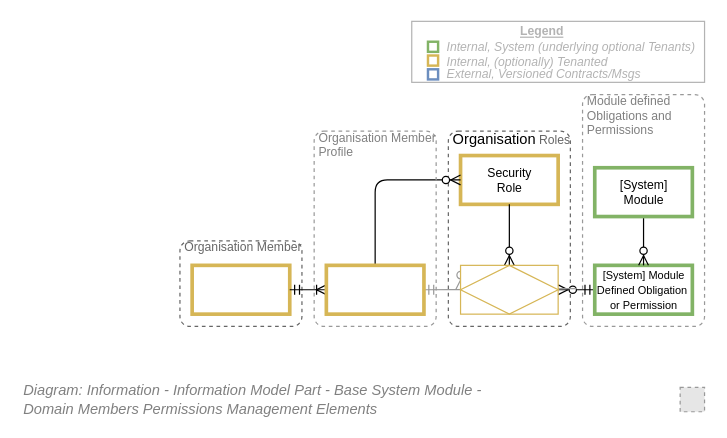
This 727x438 diagram has some shape labels left out. Grey dashed boxes stand in for pictures. The shapes that lost their labels are listed below. From the top down, each one's centre as x and y in pixels, then its label:
At pixel 240 289: "Member".
At pixel 374 289: "Security Profile".
At pixel 508 289: "[ Group ] Obligation/Permission +/- Assignment".
